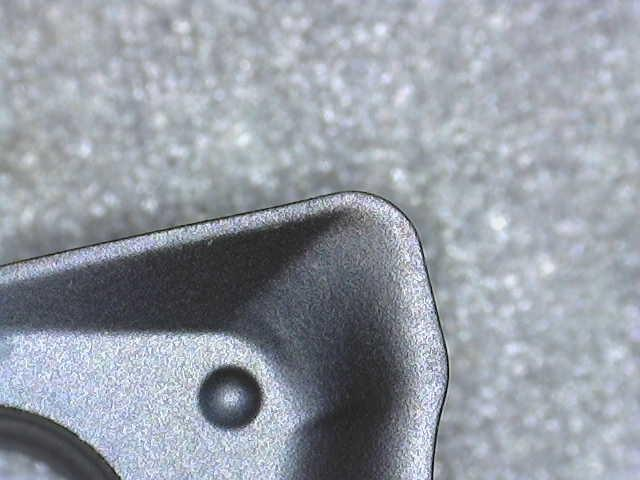normal: (1, 187, 451, 480)
